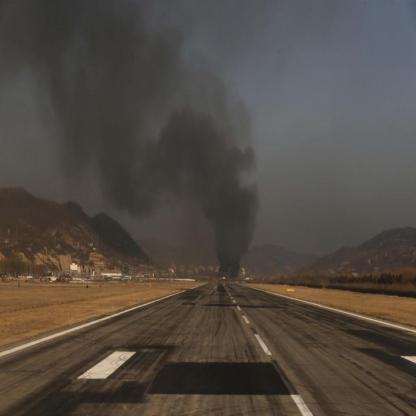smoke: (57, 4, 106, 187), (105, 38, 155, 204), (3, 0, 55, 82), (188, 119, 257, 168), (206, 166, 256, 225), (155, 106, 191, 184), (214, 230, 244, 268)
